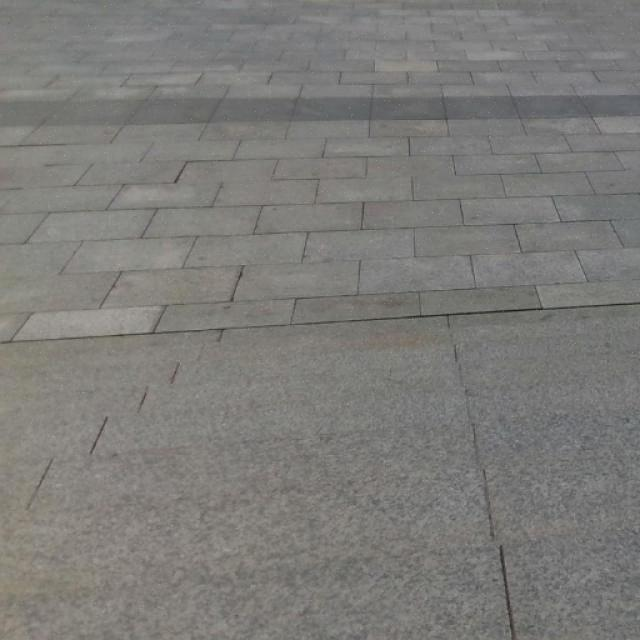stair: (0, 343, 640, 640)
